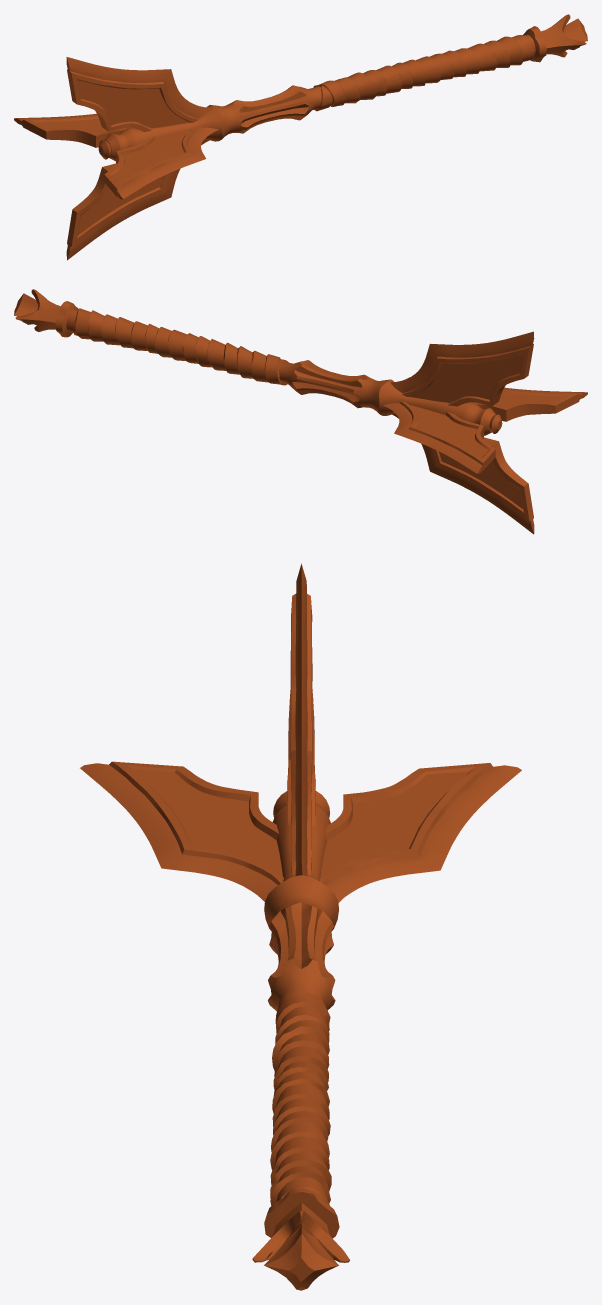
The model's file is SM_Rune_Mace_3.obj.
The picture shows the model from 3 angles, top to bottom: view 1: azimuth 30°, elevation 25°; view 2: azimuth 150°, elevation 25°; view 3: azimuth 270°, elevation 25°; orthographic projection. The views are drawn at different scales.
Visible parts, largest first — view 1: SM_Rune_Mace_3; view 2: SM_Rune_Mace_3; view 3: SM_Rune_Mace_3.
Boxes of the visible parts, x1,y1,x2,y2 form: SM_Rune_Mace_3: (14,14,587,260); SM_Rune_Mace_3: (14,289,587,534); SM_Rune_Mace_3: (80,563,521,1290).
Bounding box in the file's own units: 1074 × 404 × 399.
